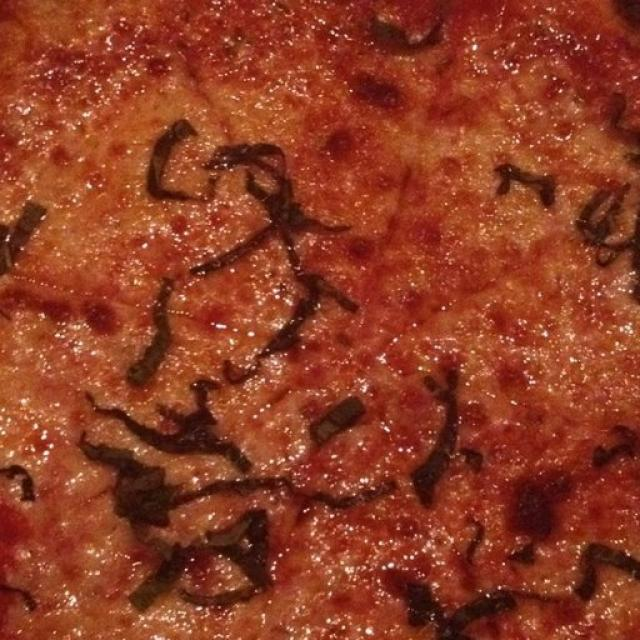Basil: (127, 226, 364, 386), (144, 118, 333, 236), (406, 549, 640, 640), (132, 506, 266, 608), (82, 394, 255, 470), (414, 367, 483, 505), (589, 180, 640, 268), (0, 196, 60, 262), (375, 8, 449, 52), (502, 153, 558, 206), (315, 392, 367, 449), (592, 419, 640, 466), (511, 484, 554, 536), (0, 462, 39, 497), (0, 584, 45, 610)
Pizza: (0, 0, 640, 640)
